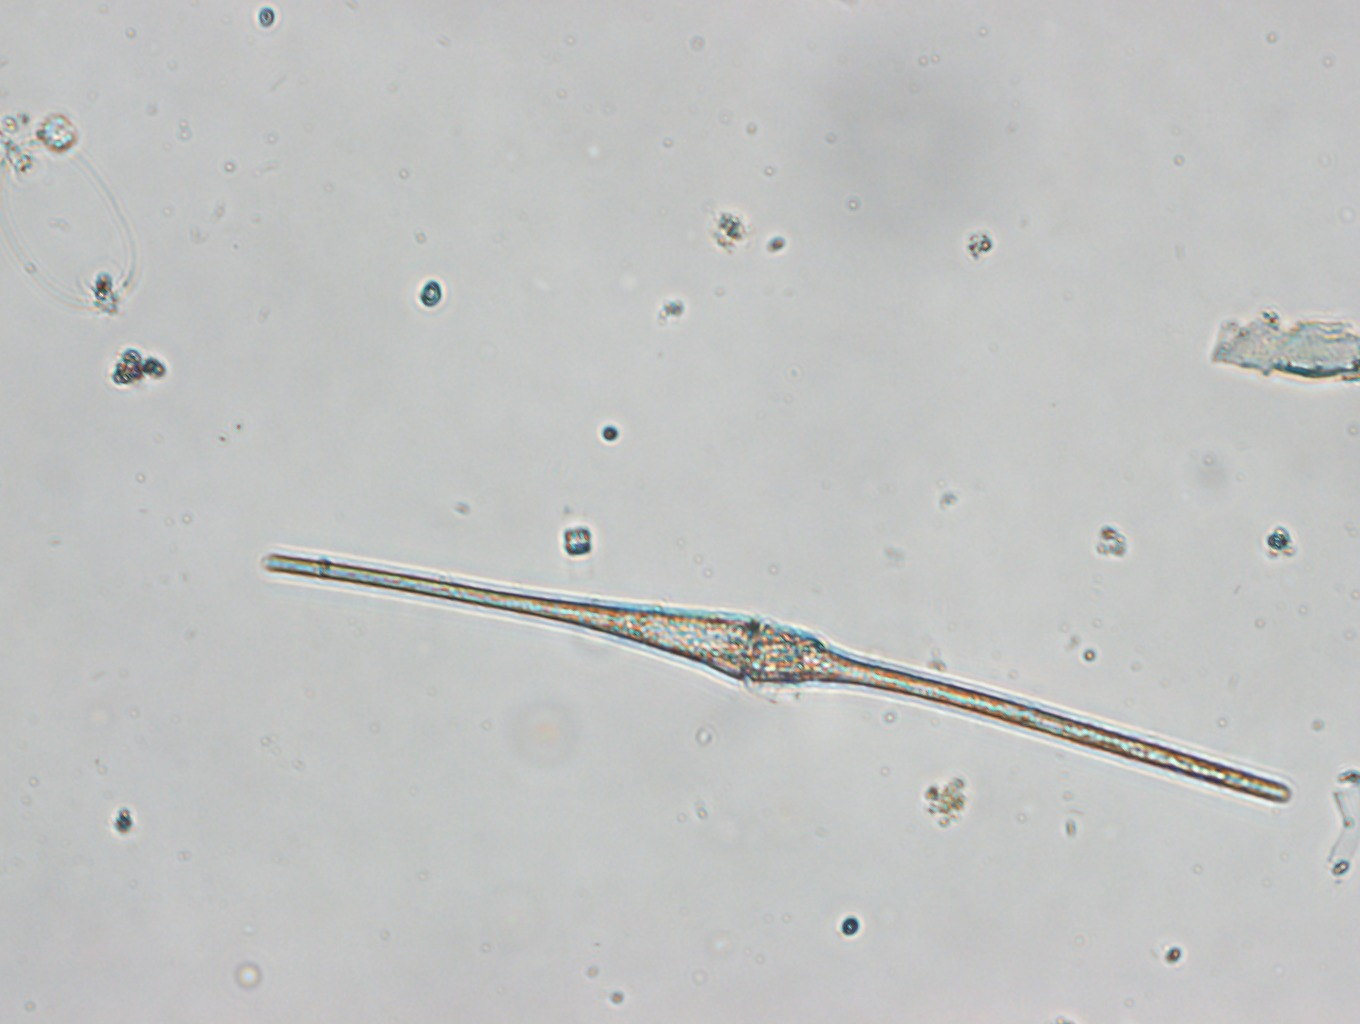ceratium fusus: (256, 541, 1294, 807)
